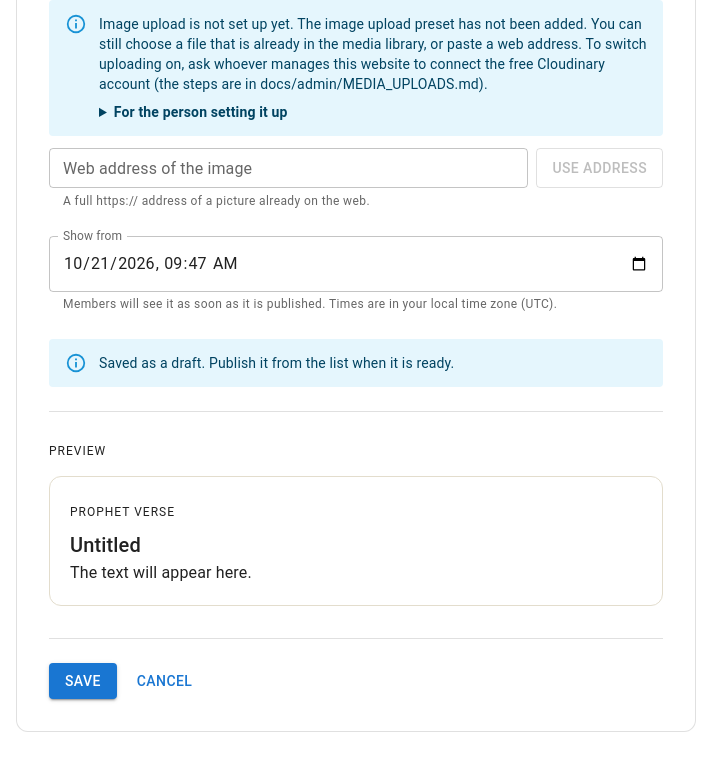
Test case: creating › refuses to save without the words it would show
The width and height of the screenshot is (713, 768).
(page scrolled)
Click the button with test id "prophet-verse-form-submit" at (83, 681), box x1=49 y1=662 x2=117 y2=699
(page scrolled)
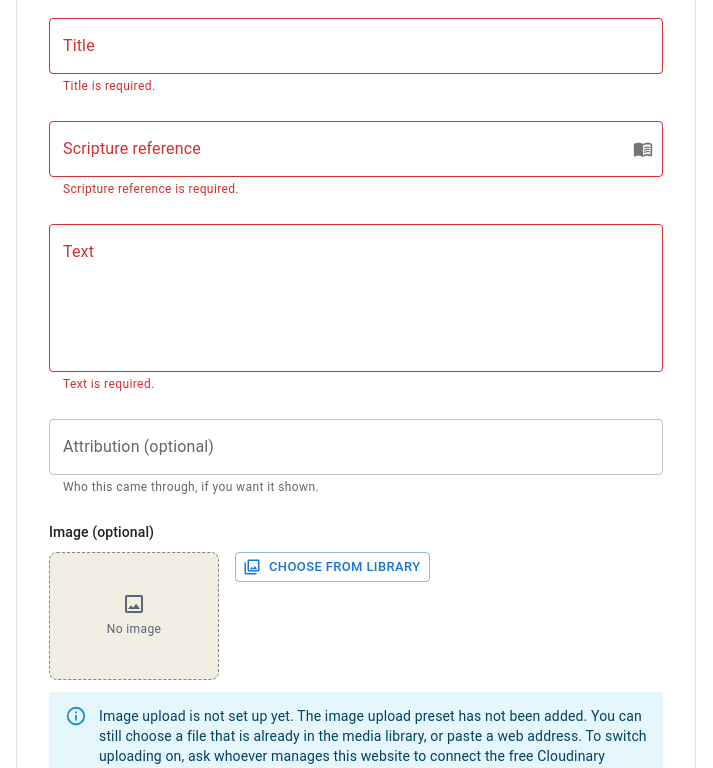
Result: the text "Title is required." is shown at x1=63 y1=79 x2=156 y2=93
Result: the text "Text is required." is shown at x1=63 y1=377 x2=155 y2=391
